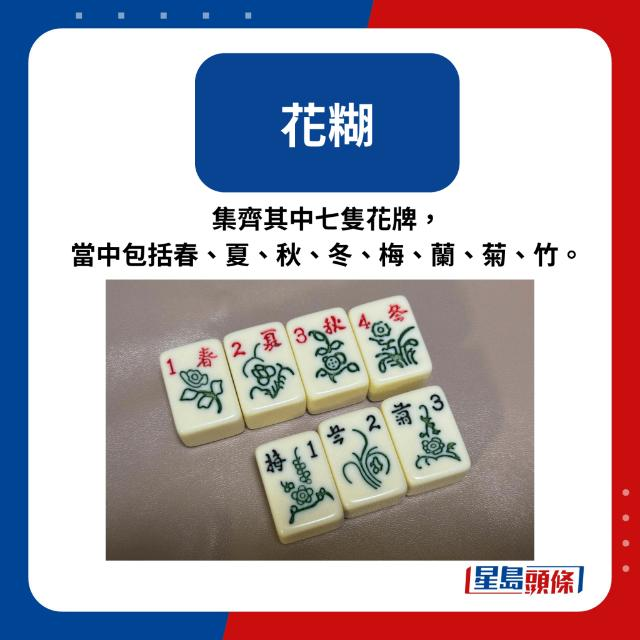f1: (262, 435, 326, 475)
f2: (328, 415, 388, 447)
f3: (388, 390, 454, 428)
s1: (162, 344, 222, 378)
s2: (228, 327, 288, 361)
s3: (292, 315, 348, 347)
s4: (354, 300, 414, 330)
